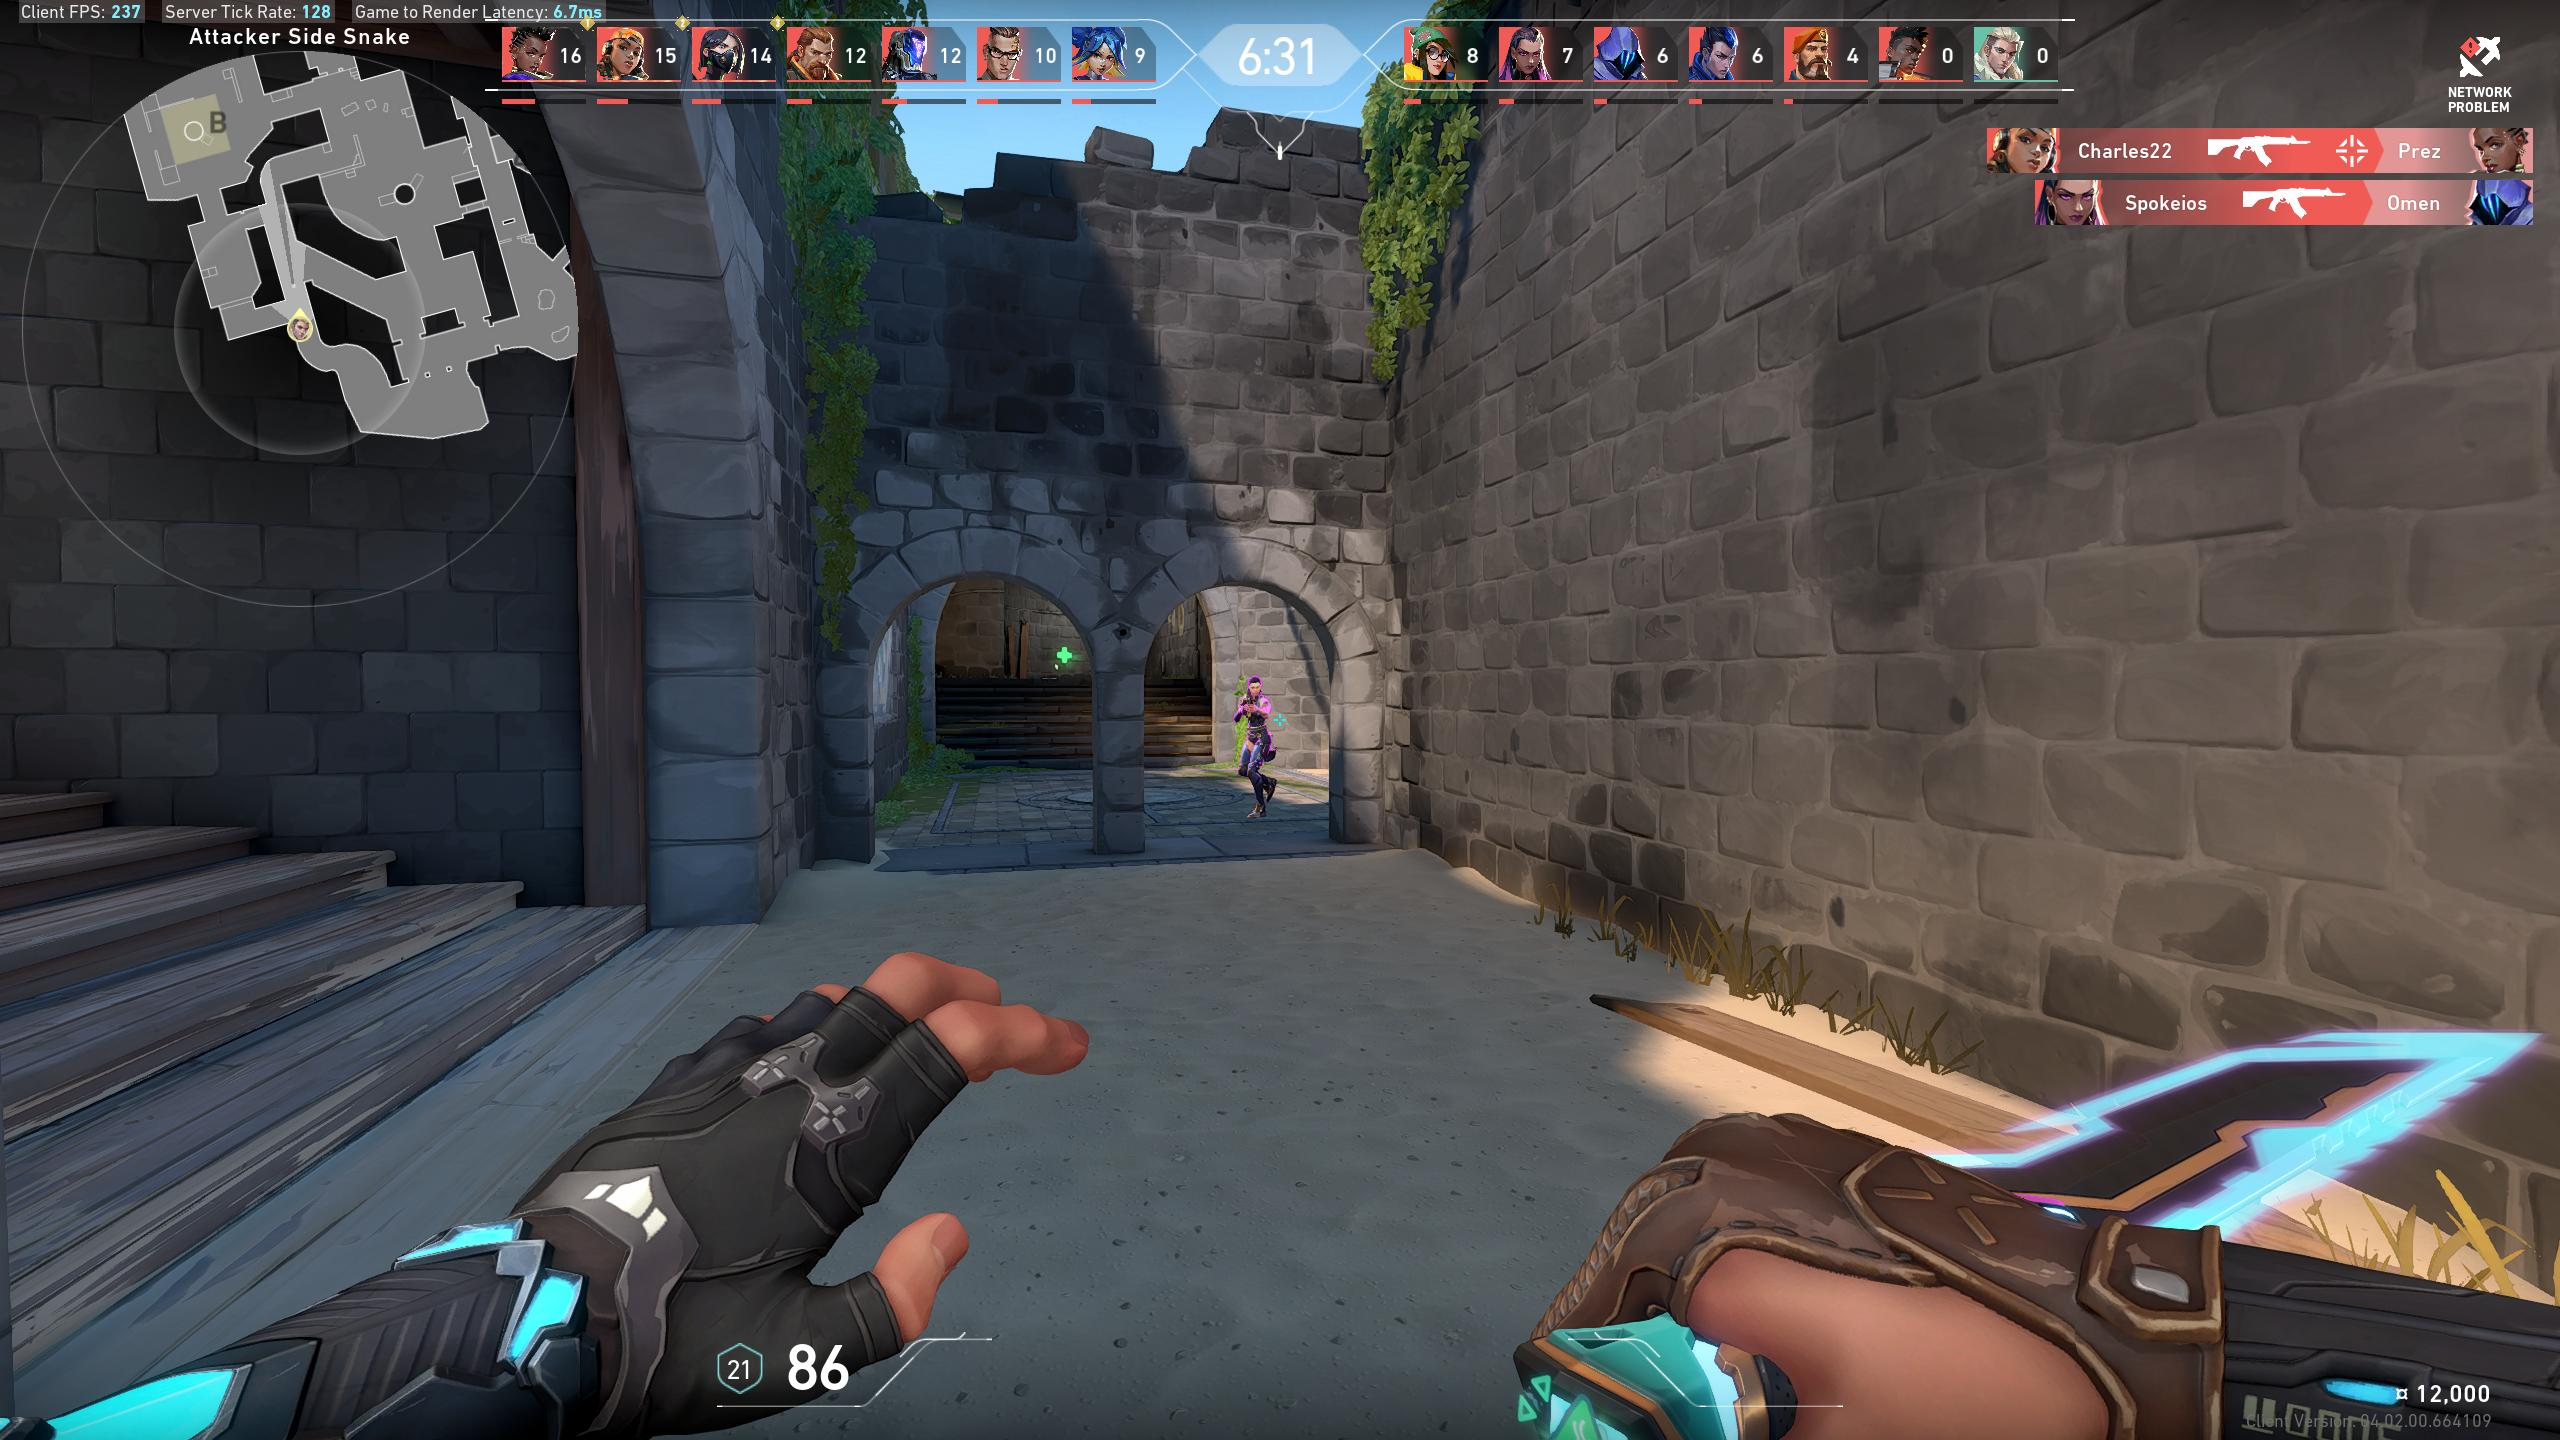enemyBody: (1250, 698, 1264, 728)
enemyHead: (1250, 680, 1261, 695)
